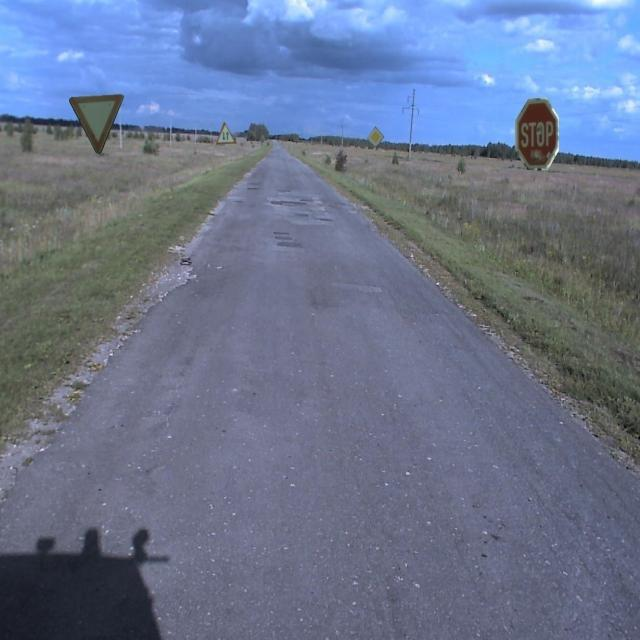road: (0, 140, 639, 639)
